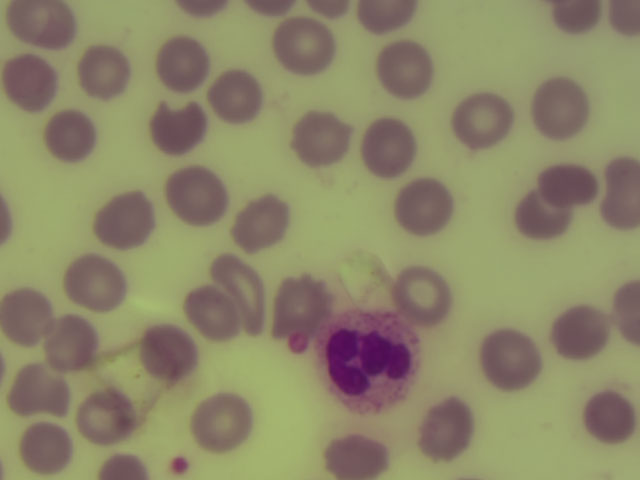Platelets: (286, 333, 306, 355), (172, 458, 190, 473)
RBC: (210, 256, 271, 325), (164, 167, 229, 226), (76, 388, 141, 447), (135, 323, 200, 382), (188, 391, 253, 450), (269, 276, 334, 335), (273, 15, 338, 74), (412, 398, 477, 457), (546, 305, 611, 364), (481, 331, 546, 390), (390, 267, 455, 326), (389, 176, 454, 235), (354, 118, 419, 177), (288, 110, 353, 169), (374, 38, 439, 97), (451, 93, 516, 152), (526, 79, 591, 138), (92, 190, 157, 249), (61, 254, 126, 313), (149, 35, 214, 94), (148, 99, 213, 158), (229, 192, 294, 251), (76, 44, 141, 103), (1, 54, 65, 113), (12, 1, 77, 59), (515, 191, 576, 246), (209, 66, 265, 125), (17, 422, 76, 477), (183, 285, 243, 339), (3, 365, 69, 414), (41, 107, 100, 159), (581, 392, 636, 446), (328, 432, 389, 480), (45, 314, 96, 371), (1, 288, 52, 344), (602, 159, 640, 230), (545, 166, 603, 211), (547, 1, 606, 38), (357, 1, 417, 34), (95, 454, 155, 480), (614, 283, 640, 339), (605, 1, 640, 38), (305, 1, 355, 23), (245, 1, 301, 20), (176, 1, 234, 19)
WBC: (321, 312, 420, 414)
